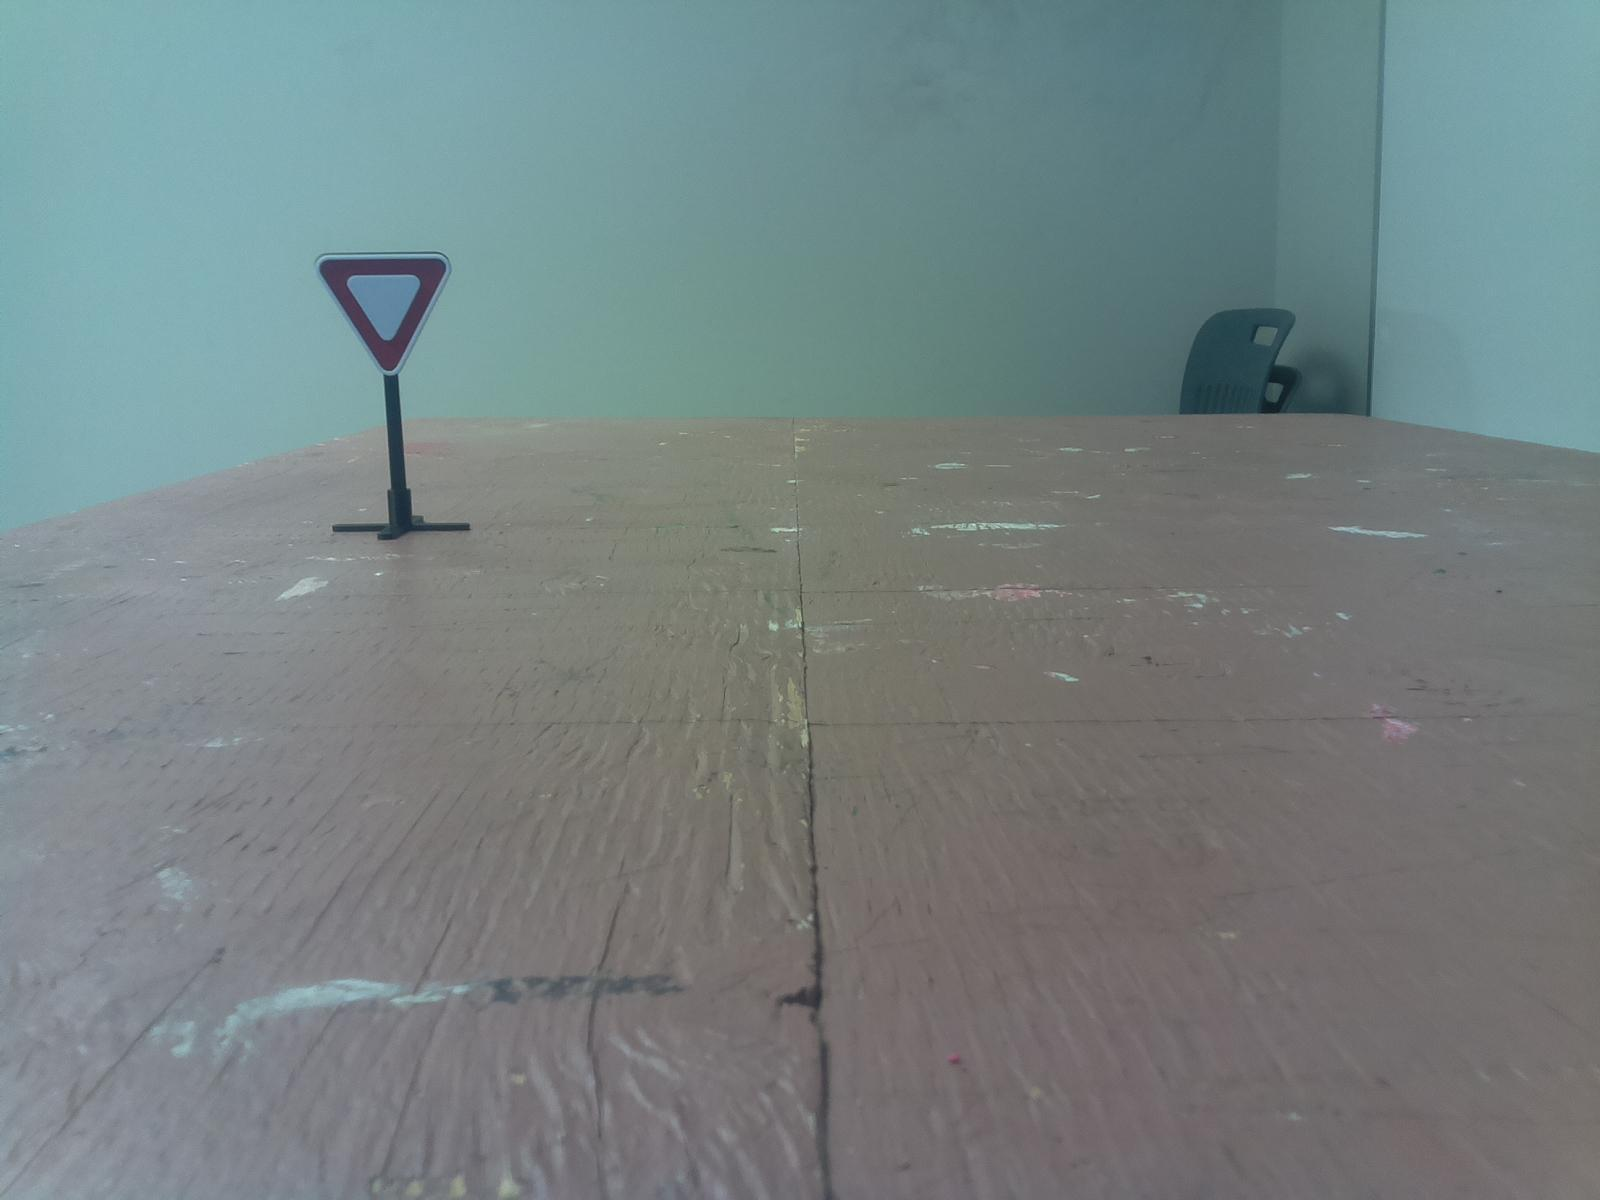sign_yield: (294, 241, 467, 384)
